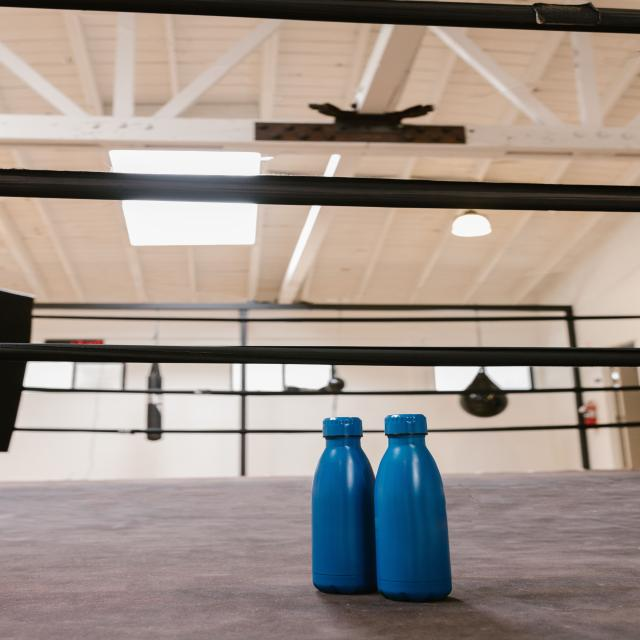Bottle: (375, 415, 451, 601), (312, 418, 376, 594)
